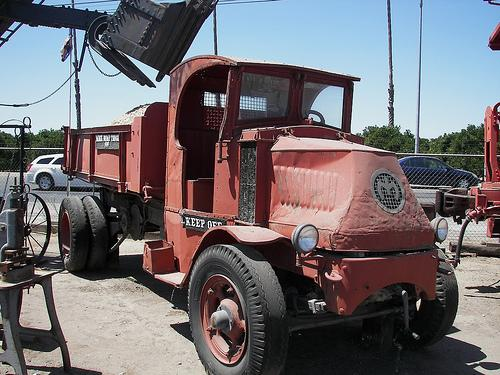truck: (56, 55, 459, 375)
